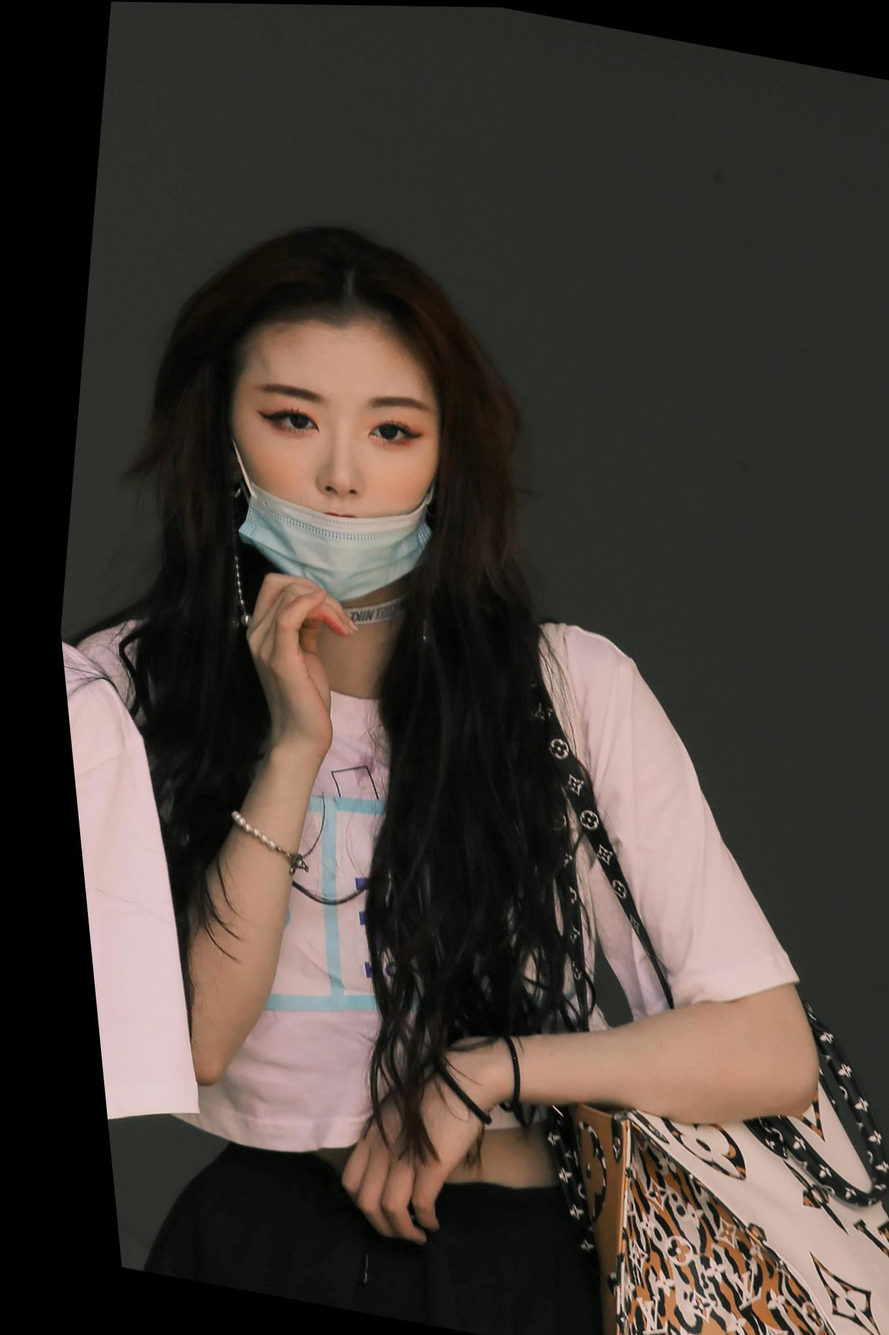WRONG: (193, 339, 456, 610)
